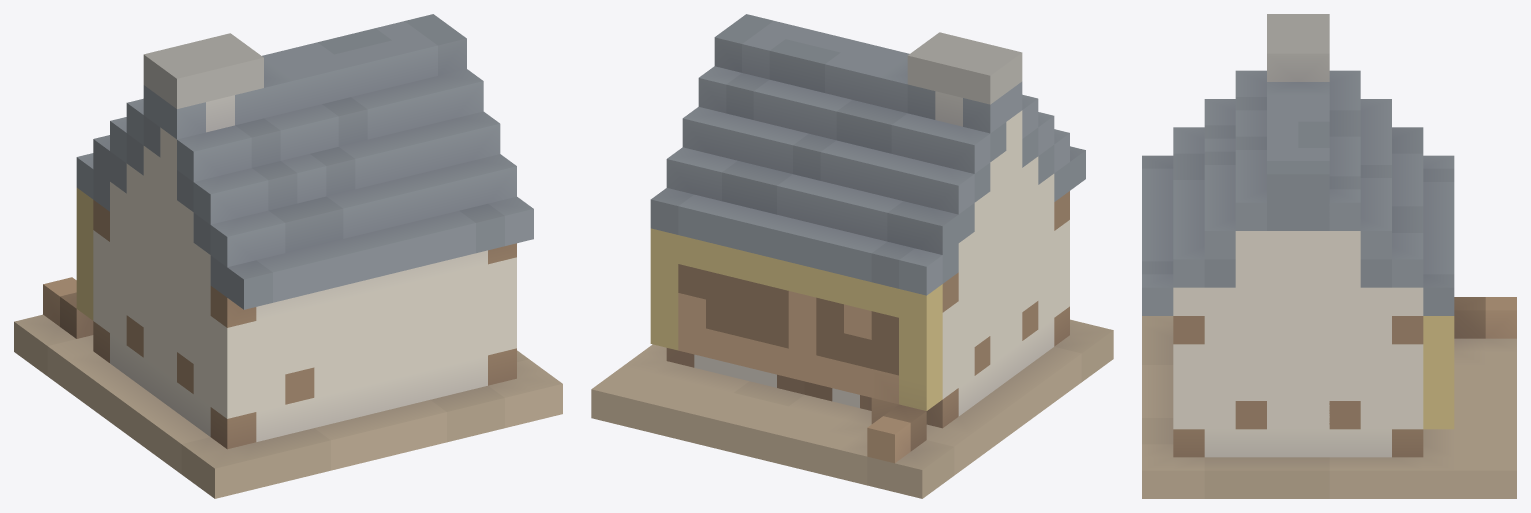
Rendered from rendering_house.lite.glb.
The picture shows the model from 3 angles, left to right: view 1: azimuth 30°, elevation 25°; view 2: azimuth 150°, elevation 25°; view 3: azimuth 270°, elevation 25°; orthographic projection. The views are drawn at different scales.
Parts seen in each view (by area): view 1: rendering_house; view 2: rendering_house; view 3: rendering_house.
Boxes of the visible parts, x1=… form: rendering_house: x1=14, y1=14, x2=562, y2=498; rendering_house: x1=591, y1=14, x2=1113, y2=498; rendering_house: x1=1142, y1=14, x2=1516, y2=498.
Bounding box in the file's own units: 3 × 3 × 3.
